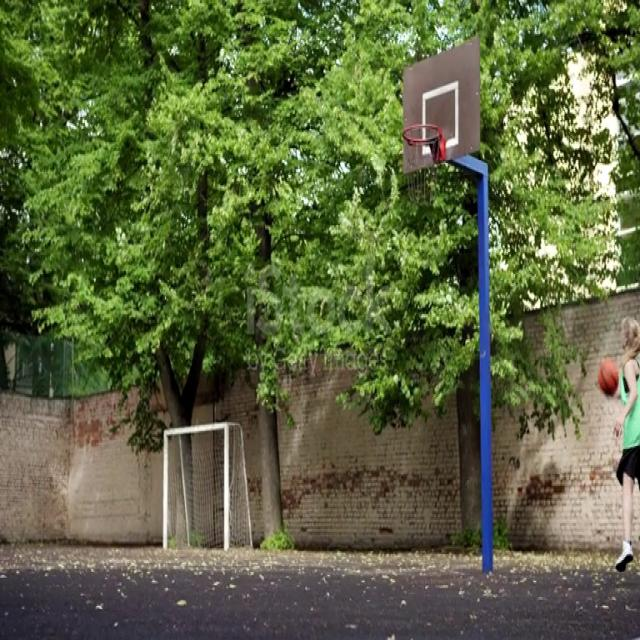ball: (597, 357, 620, 397)
